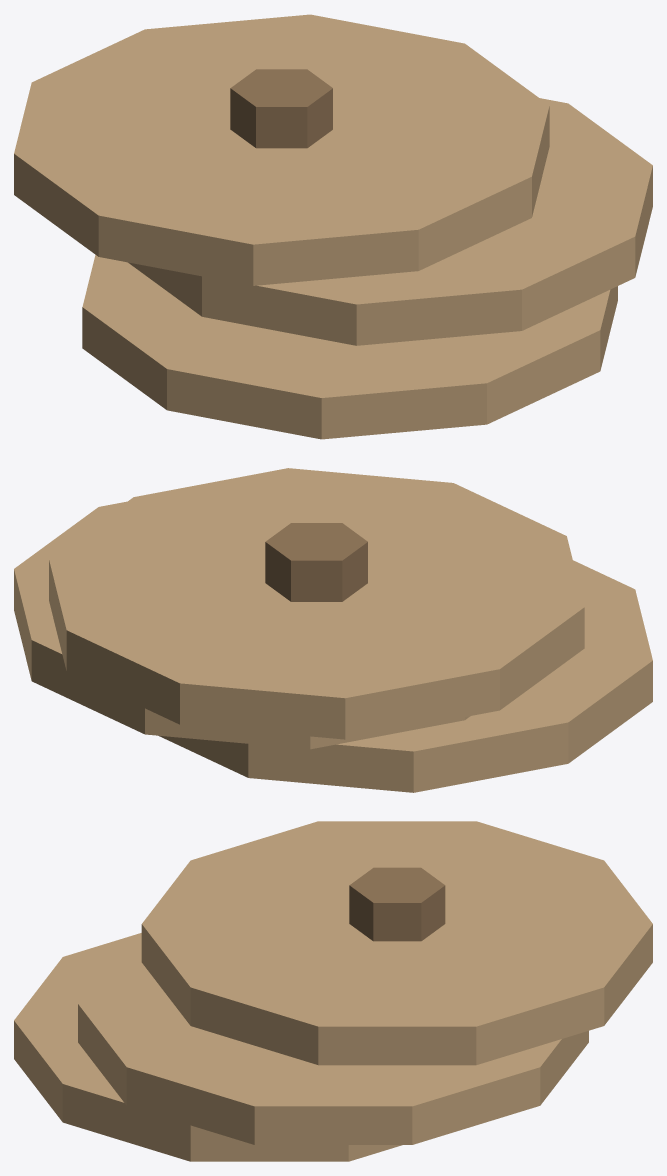
File: item_093_wheel_m.glb
3 views of the same model, one above another, from view 1: azimuth 30°, elevation 25°; view 2: azimuth 150°, elevation 25°; view 3: azimuth 270°, elevation 25° (orthographic). The views are drawn at different scales.
Parts seen in each view (by area): view 1: item_093_wheel_m; view 2: item_093_wheel_m; view 3: item_093_wheel_m.
Part boxes in pixels (box(x1,y1,x2,y2)): item_093_wheel_m: box(14, 14, 652, 439); item_093_wheel_m: box(14, 468, 652, 792); item_093_wheel_m: box(14, 821, 652, 1161).
Bounding box in the file's own units: 0.5265 × 0.18 × 0.6.
